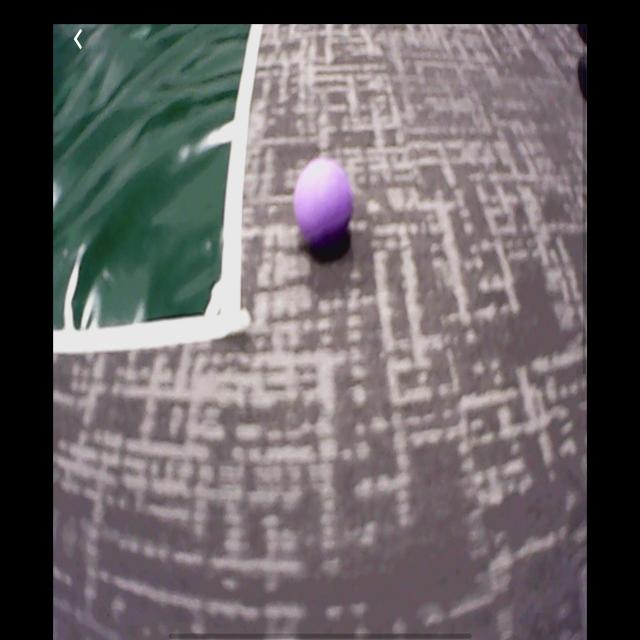ball: (294, 159, 350, 242)
